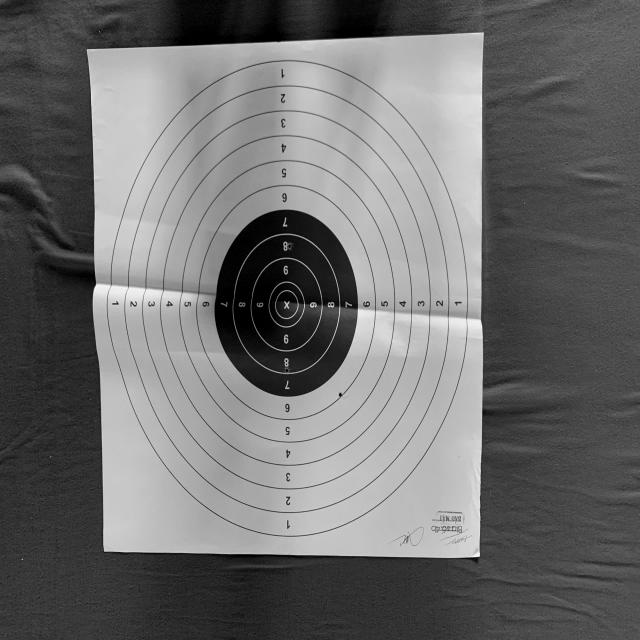bullet: (336, 392, 344, 399), (288, 243, 292, 250)
target: (88, 40, 484, 556)
